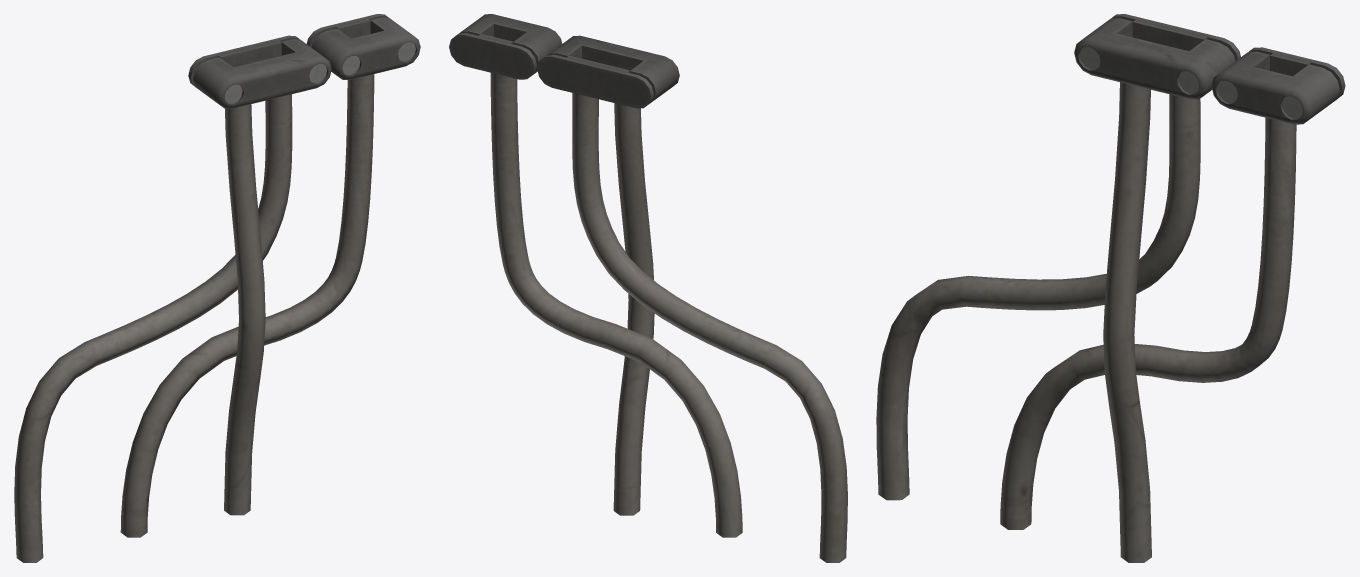
The model's file is cable_cable_3way_junction.fbx.
The picture shows the model from 3 angles, left to right: view 1: azimuth 30°, elevation 25°; view 2: azimuth 150°, elevation 25°; view 3: azimuth 330°, elevation 25°; orthographic projection. The views are drawn at different scales.
Parts seen in each view (by area): view 1: modular_electric_cables__cable_3way_junction; view 2: modular_electric_cables__cable_3way_junction; view 3: modular_electric_cables__cable_3way_junction.
Boxes of the visible parts, bbox=[...] form: modular_electric_cables__cable_3way_junction: bbox=[14, 14, 420, 562]; modular_electric_cables__cable_3way_junction: bbox=[449, 14, 847, 562]; modular_electric_cables__cable_3way_junction: bbox=[876, 14, 1345, 562].
Bounding box in the file's own units: 0.1872 × 0.2087 × 0.0285.
